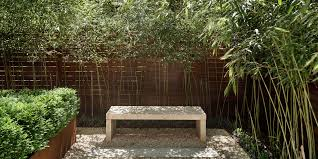bamboo: (2, 1, 213, 107), (261, 3, 316, 154), (214, 3, 264, 131)
